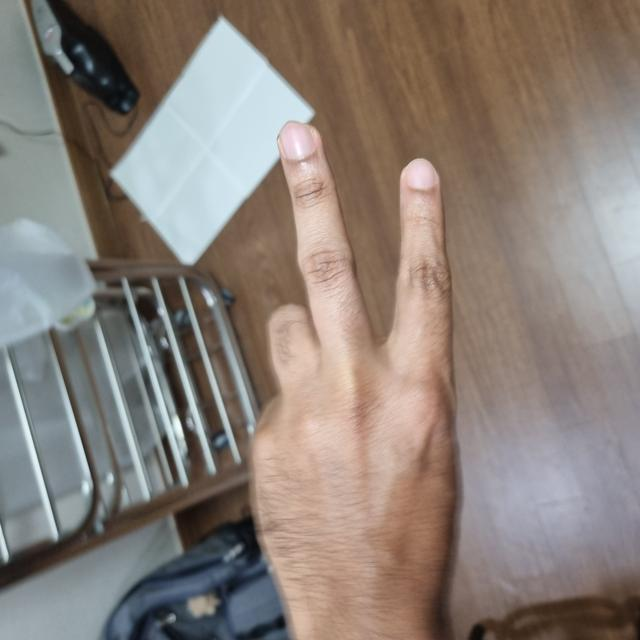Scissors: (2, 245, 481, 453)
